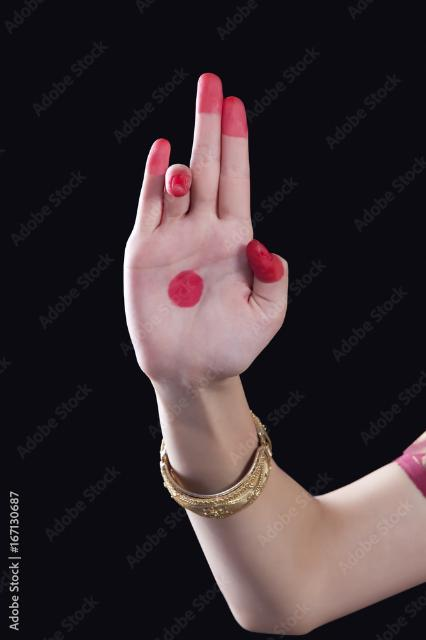tripataka: (124, 74, 289, 383)
